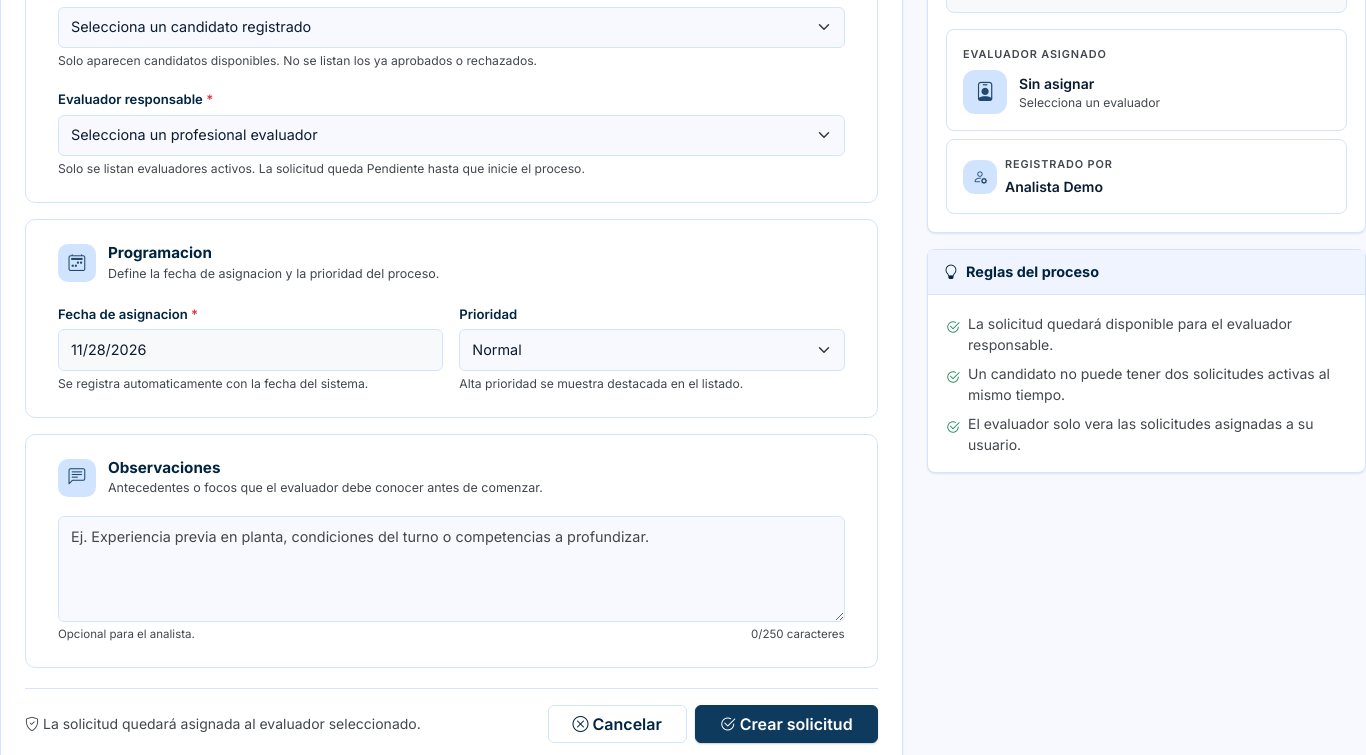
Test case: AnalistaNuevaSolicitud › valida candidato y evaluador obligatorios
(page scrolled)
Click the button "Crear solicitud" at (786, 724), box [695,705,878,743]
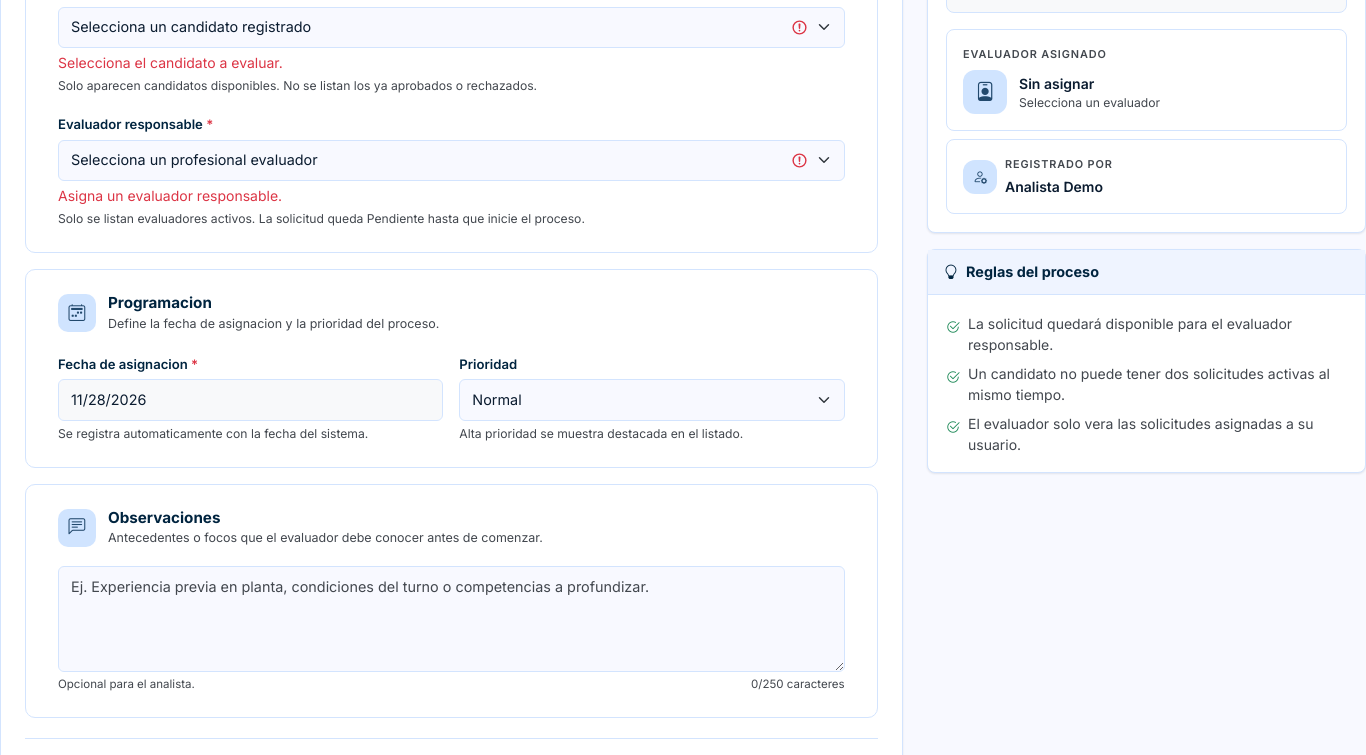
Expected: the text "Selecciona el candidato a evaluar." is shown, [58,54,283,71]
Expected: the text "Asigna un evaluador responsable." is shown, [58,187,282,204]
